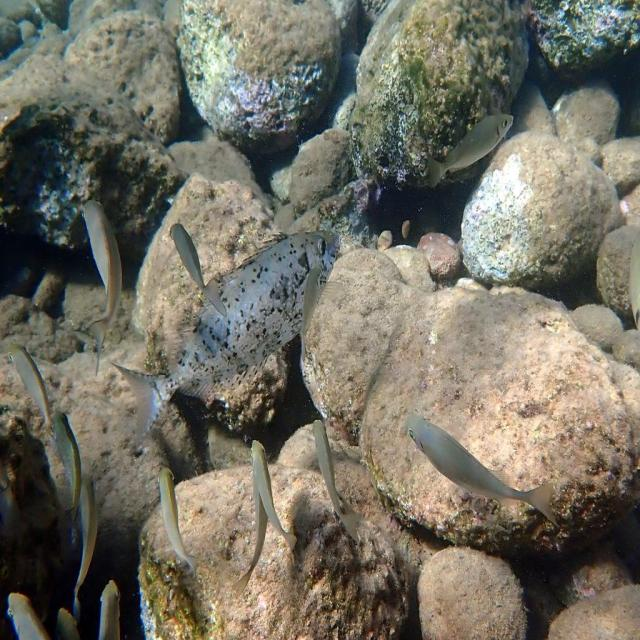Sokar Baligi: (116, 205, 350, 449), (398, 395, 564, 535)
